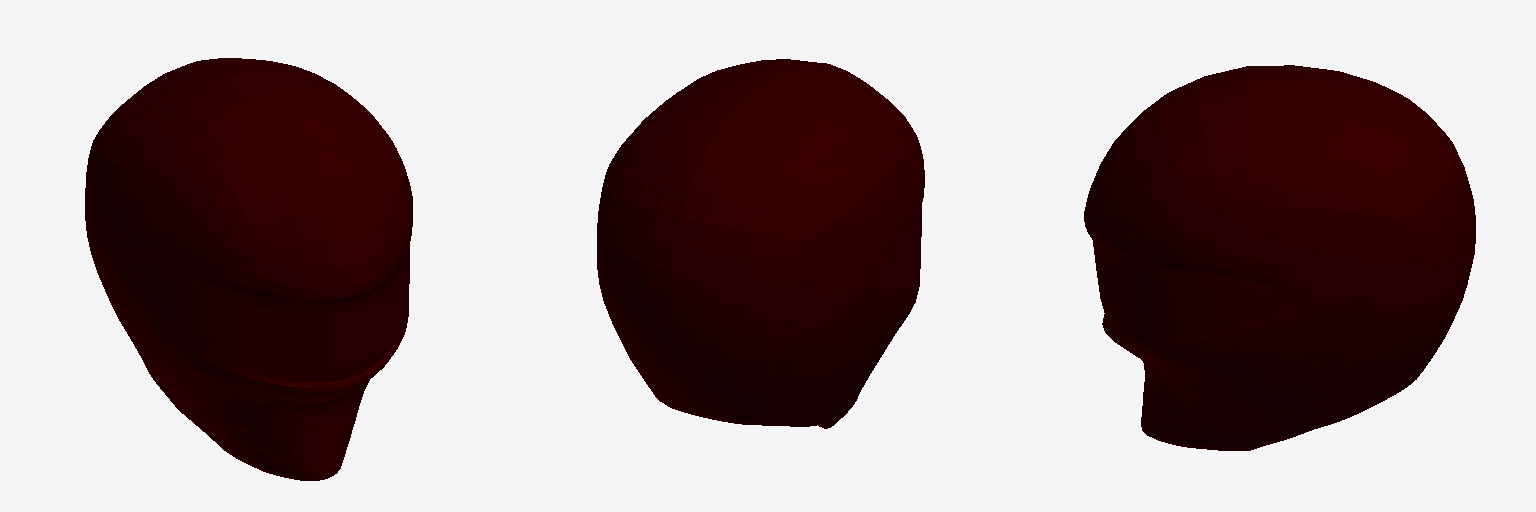
File: CascoRanger.obj
3 views of the same model, side by side, from view 1: azimuth 30°, elevation 25°; view 2: azimuth 150°, elevation 25°; view 3: azimuth 270°, elevation 25° (orthographic).
Parts seen in each view (by area): view 1: Casco_PR; view 2: Casco_PR; view 3: Casco_PR.
Boxes of the visible parts, x1=… form: Casco_PR: x1=85, y1=58, x2=412, y2=480; Casco_PR: x1=597, y1=59, x2=924, y2=428; Casco_PR: x1=1084, y1=65, x2=1475, y2=450.
Size of the model in its own units: 75.6 by 99.45 by 101.